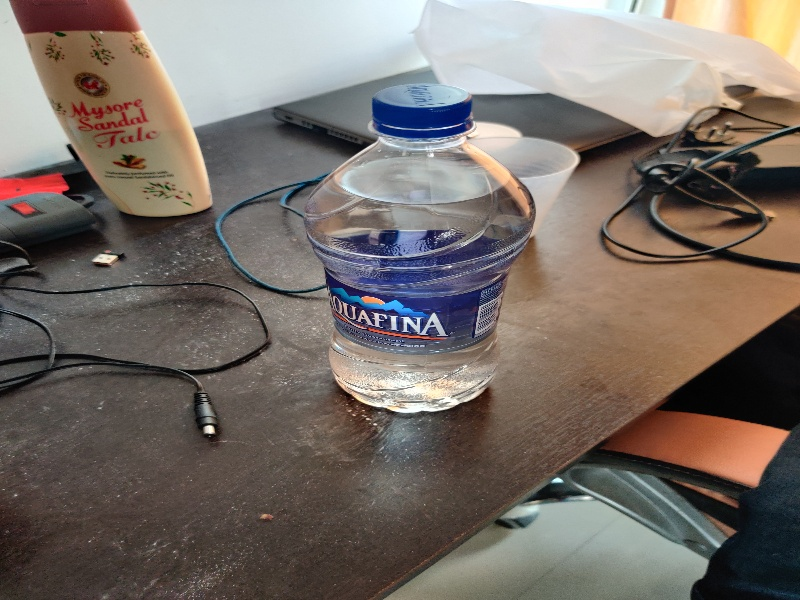bottle: (309, 76, 543, 416)
